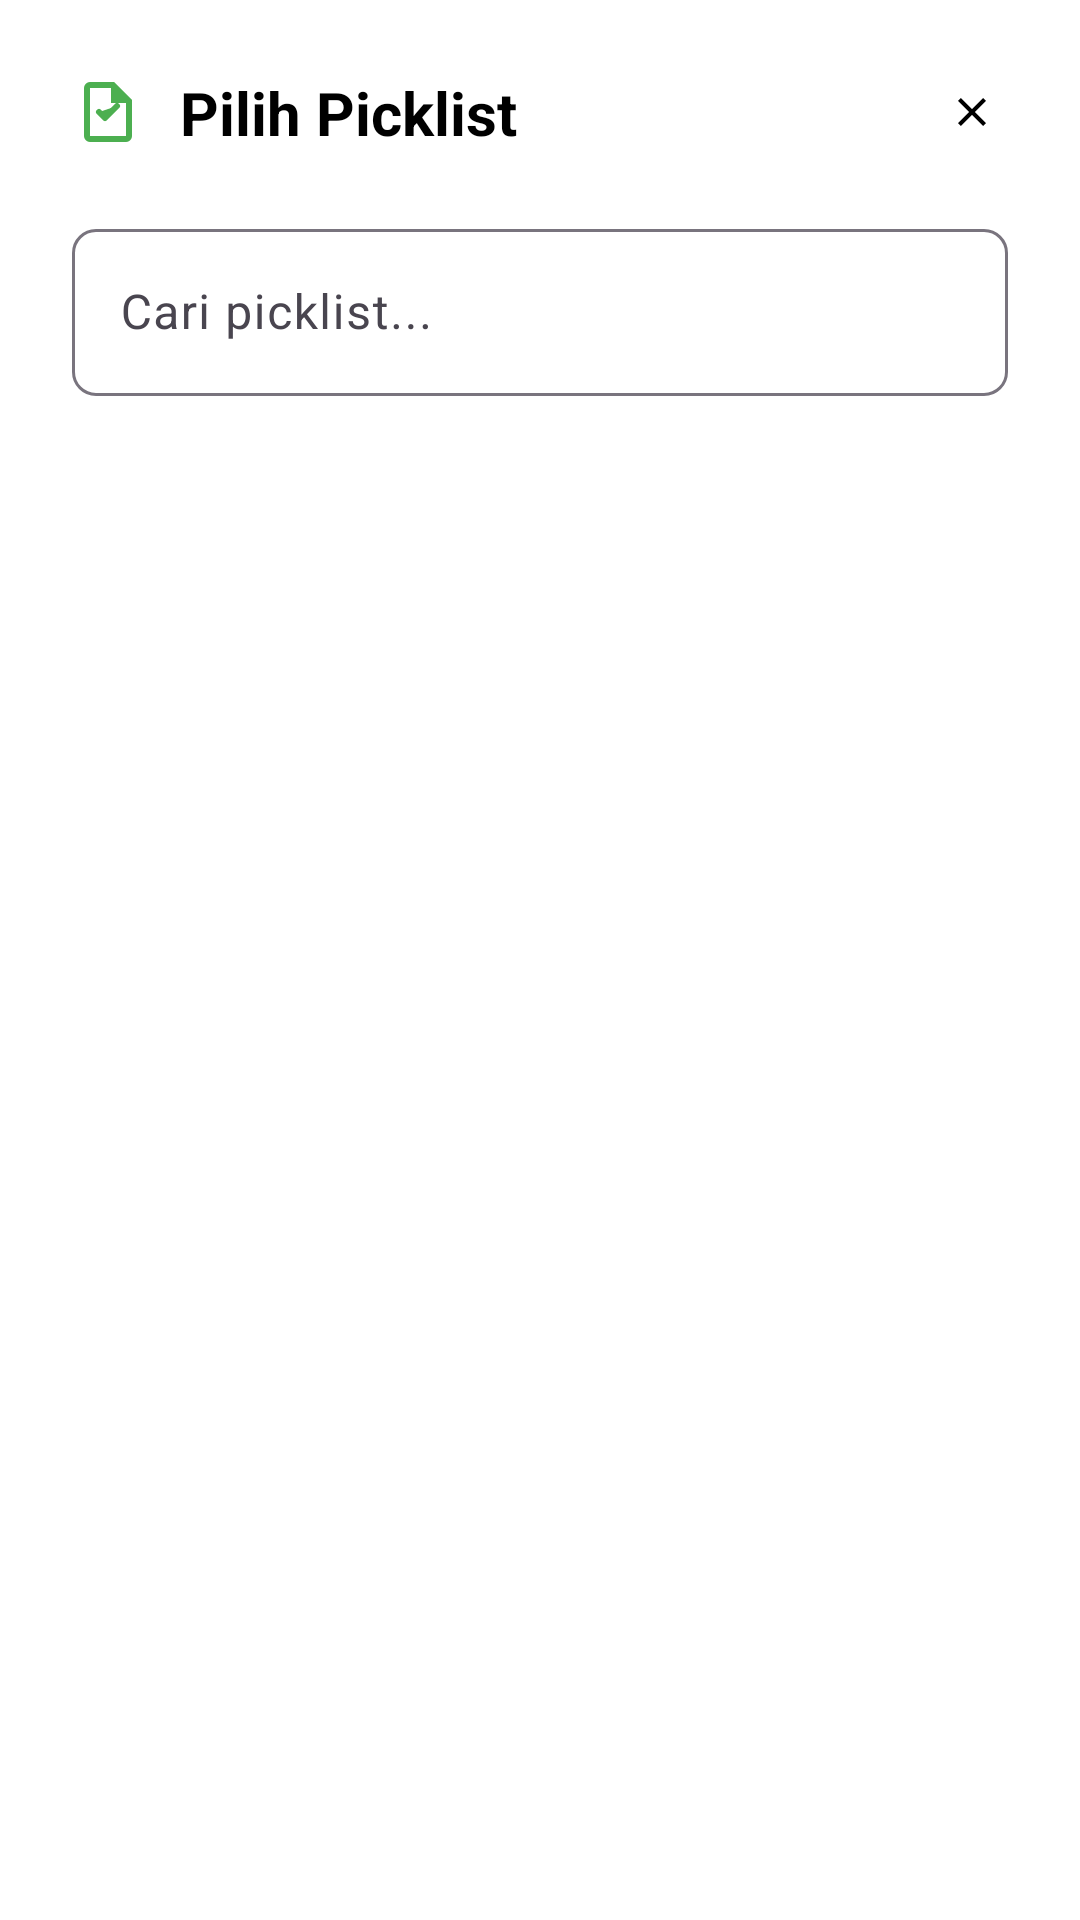

Icon bounding boxes for this 1080*1920 phone screenshot, format box(x1, y1, x2, y2):
Close: box(958, 98, 986, 126)
